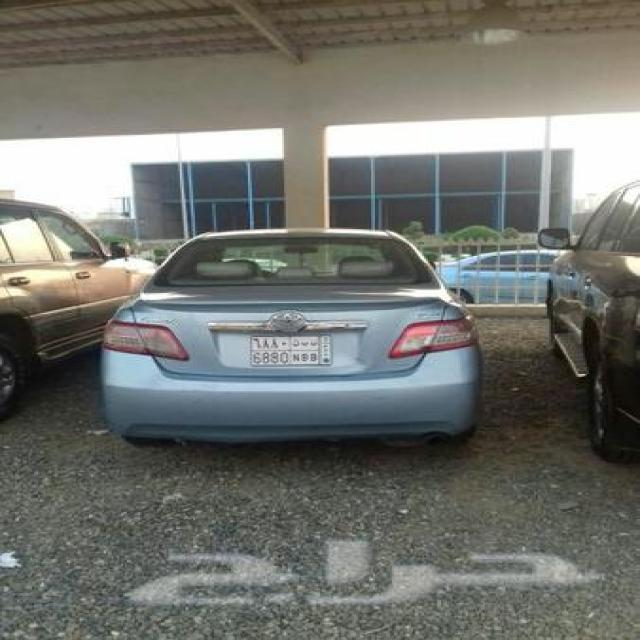license_plate: (248, 334, 335, 370)
